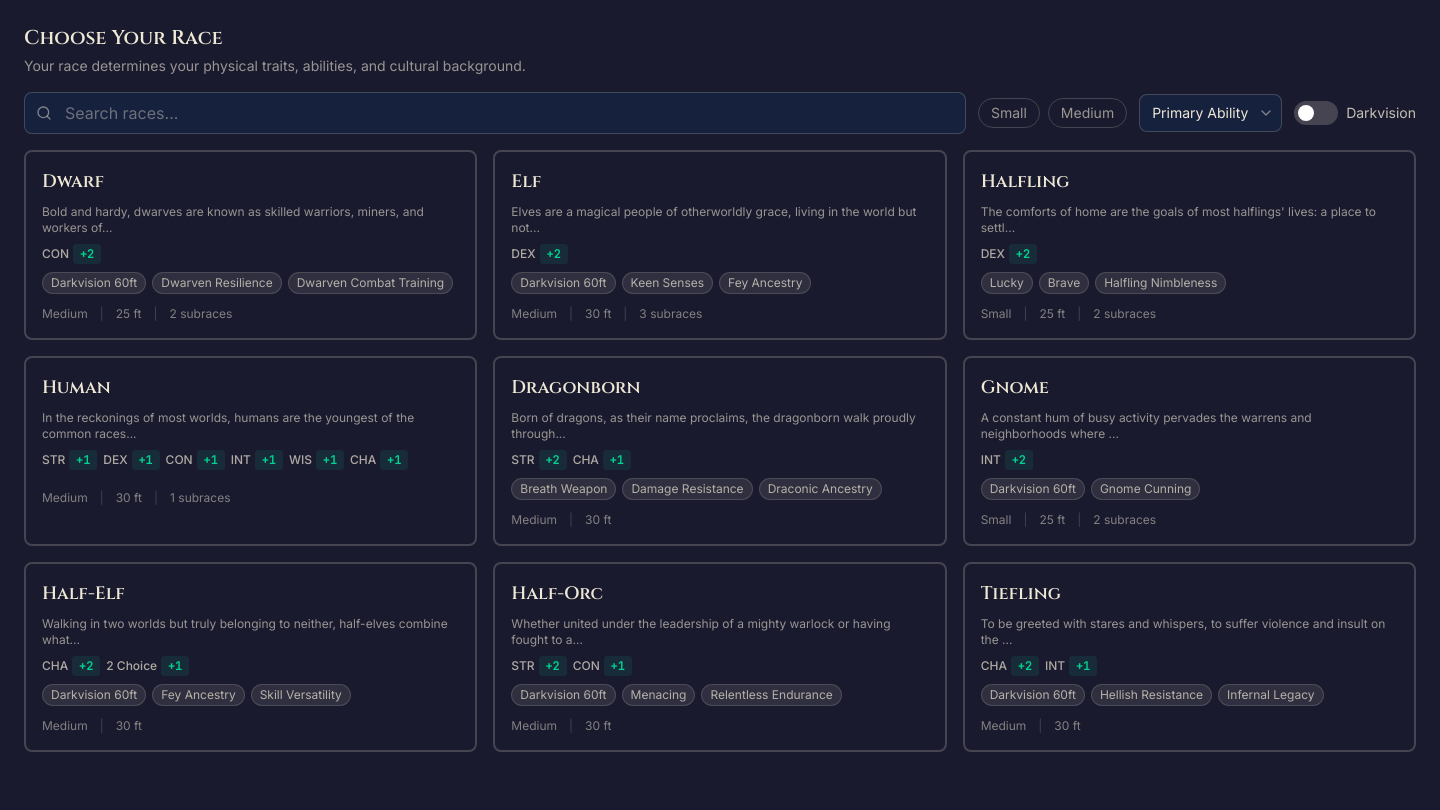
Scenario: RaceStep › should filter by size chip
The image size is (1440, 810).
# Click the Small chip
What coordinates should you click on to do the following:
click the button "Small"
I would click on:
 (1009, 113)
Its box is [978,98,1040,128].
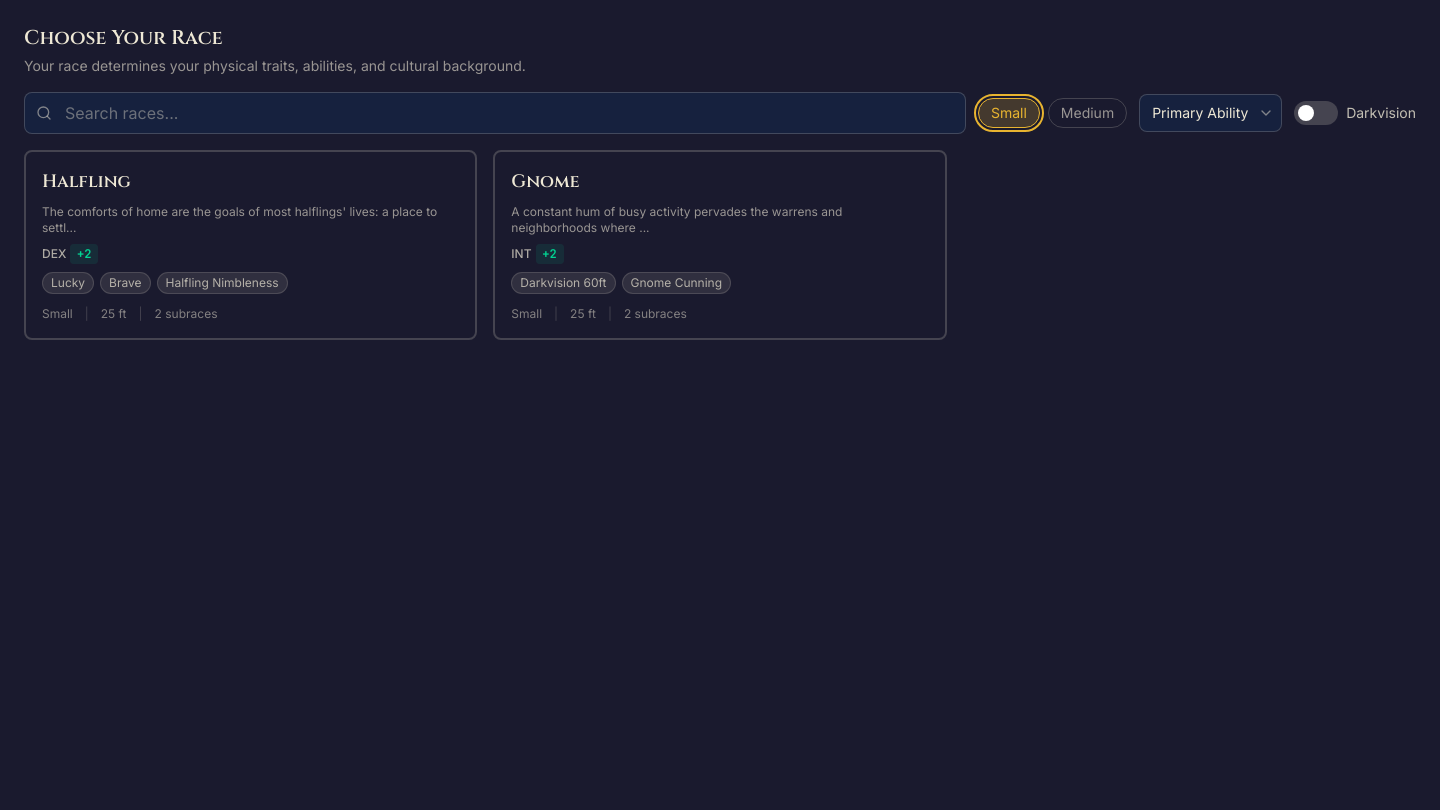
Expected: the heading "Halfling" is shown, [42,169,131,194]
Expected: the option "Dwarf" is gone
Expected: the option "Human" is gone
